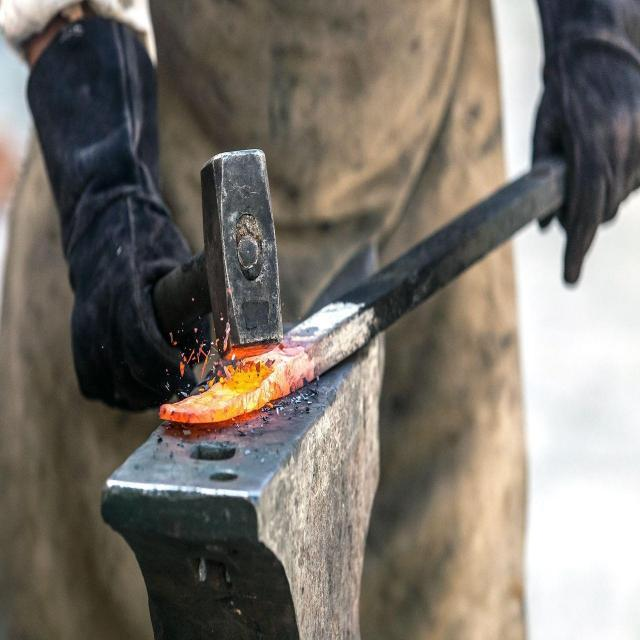hammer: (161, 137, 305, 351)
